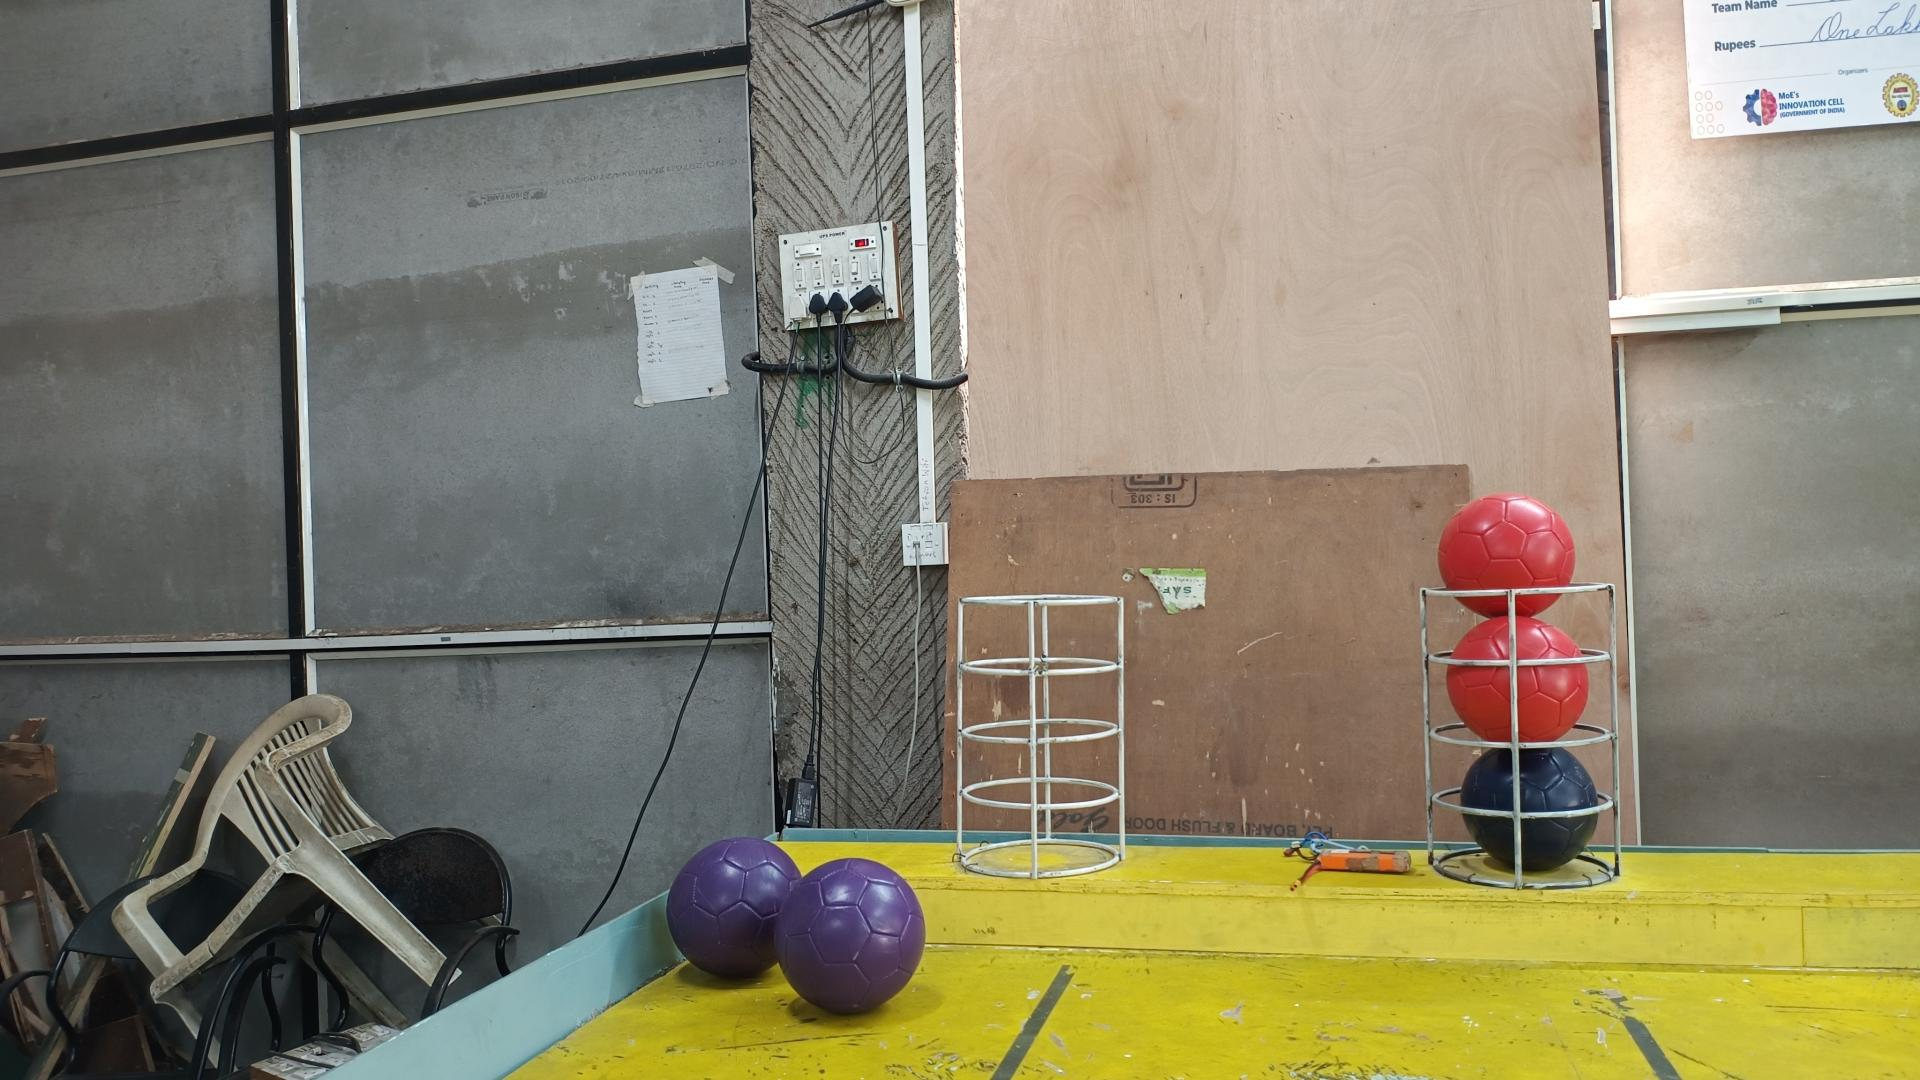dhoka: (1458, 746, 1601, 874)
laale: (1448, 615, 1590, 742), (1436, 492, 1575, 618)
